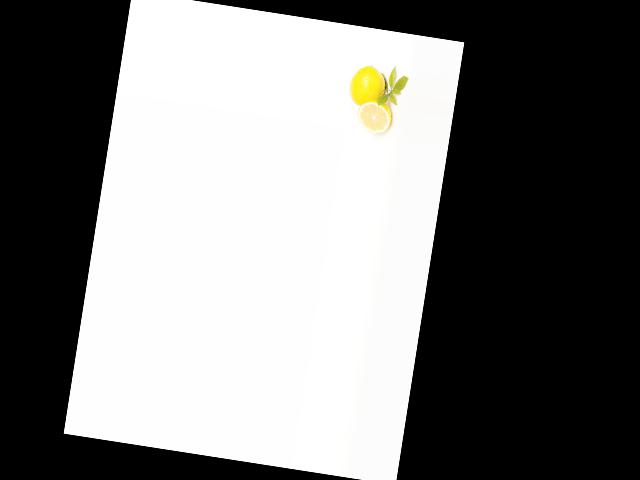lemon: (345, 58, 387, 108)
